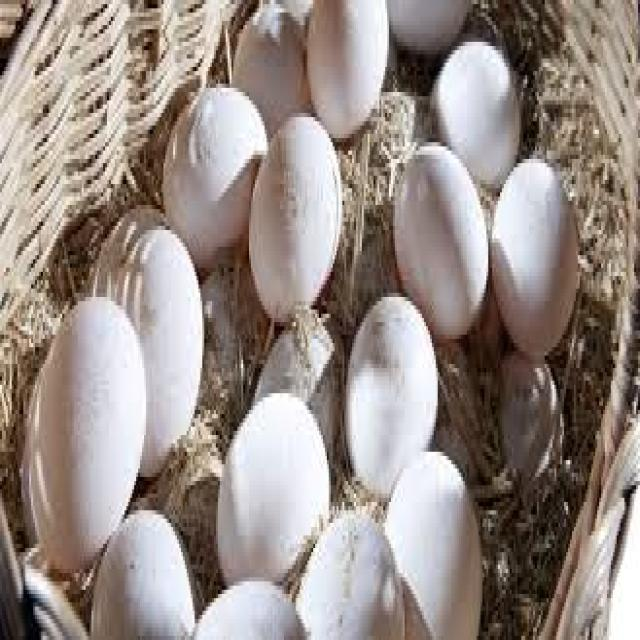White Egg: (18, 287, 151, 574), (90, 207, 208, 473), (215, 383, 331, 596), (342, 289, 442, 493), (387, 438, 485, 640), (389, 140, 491, 328), (488, 150, 578, 357), (162, 87, 270, 259), (262, 98, 344, 304), (422, 36, 521, 187), (90, 501, 194, 640), (298, 506, 404, 640), (306, 2, 388, 132), (196, 577, 308, 640)
